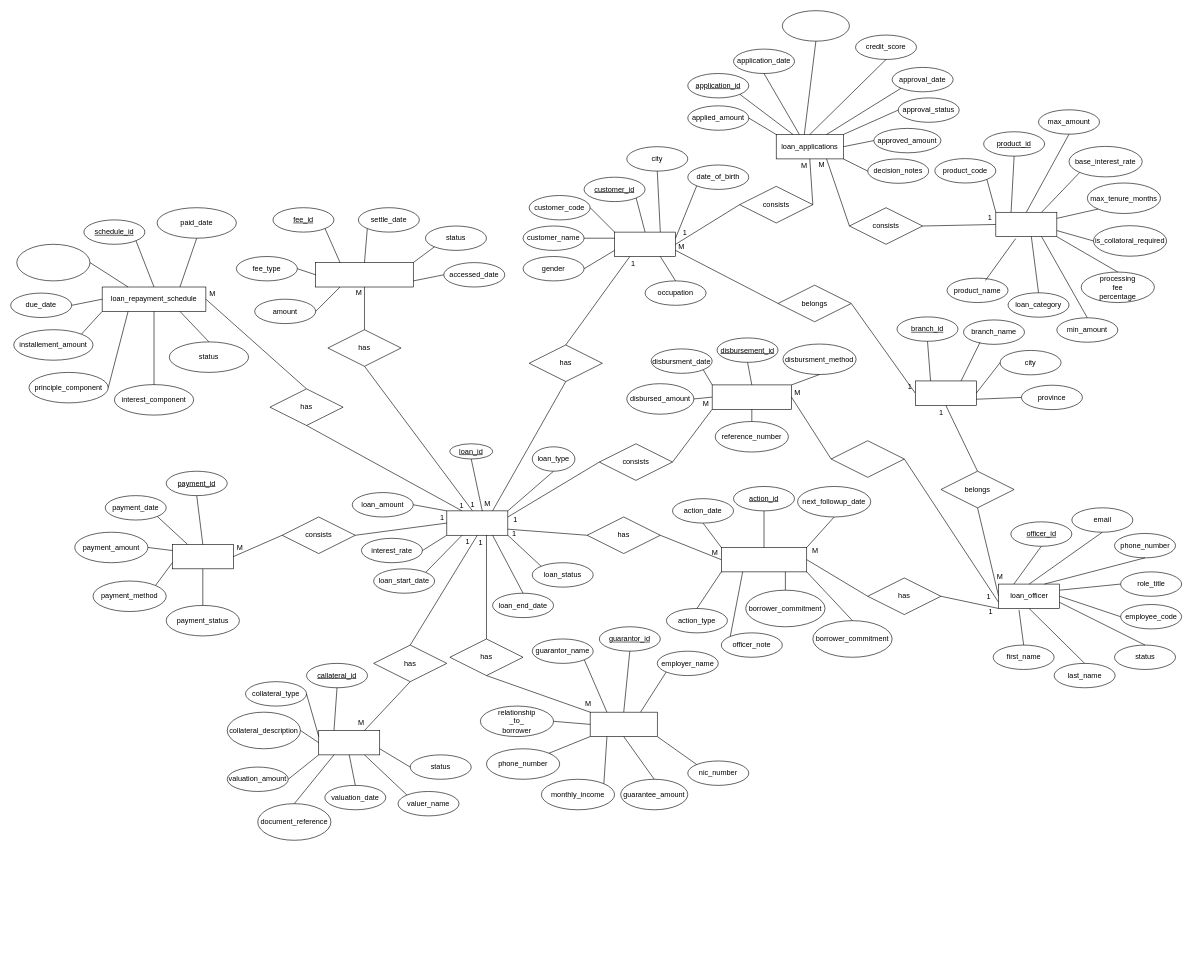
The diagram is 1193 pixels wide and 978 high, and some of its shapes have lost their labels. The shapes that lost their labels are listed below. From the top down, each one's box as (x1, y1, x2, y2) in pixels, then its label:
(782, 10, 849, 41): requested _tenure_ months
(614, 231, 676, 257): customer
(995, 212, 1057, 237): loan_products
(16, 244, 90, 281): installment_number
(315, 262, 413, 287): loan_fees_and_penalty
(712, 384, 791, 409): loan_disbursement
(915, 380, 976, 405): branch
(831, 440, 904, 477): authorized by
(446, 510, 508, 535): loan
(172, 544, 233, 569): loan_payment
(721, 547, 807, 572): loan_recovery_action
(318, 730, 380, 755): loan_collateral
(590, 712, 657, 737): loan_guarantor
